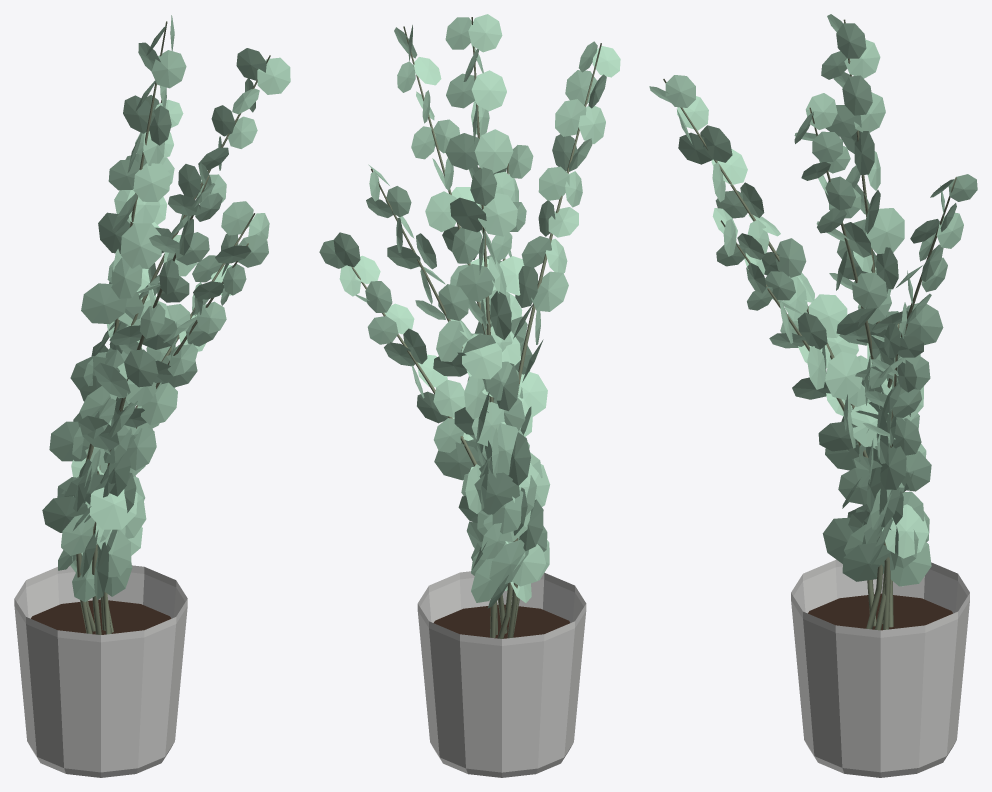
Rendered from eucalyptus.glb.
3 renders of one model, left to right at view 1: azimuth 30°, elevation 25°; view 2: azimuth 150°, elevation 25°; view 3: azimuth 270°, elevation 25°, orthographic. The views are drawn at different scales.
Visible parts, largest first — view 1: EucalyptusLeaf, EucalyptusPlanter, EucalyptusStem, EucalyptusSoil; view 2: EucalyptusLeaf, EucalyptusPlanter, EucalyptusStem, EucalyptusSoil; view 3: EucalyptusLeaf, EucalyptusPlanter, EucalyptusStem, EucalyptusSoil.
Boxes of the visible parts, box(x1,y1,x2,y2) form: EucalyptusLeaf: box(42, 15, 290, 601); EucalyptusPlanter: box(14, 565, 187, 777); EucalyptusStem: box(76, 21, 270, 634); EucalyptusSoil: box(31, 599, 171, 634); EucalyptusLeaf: box(319, 14, 620, 608); EucalyptusPlanter: box(417, 571, 586, 777); EucalyptusStem: box(351, 17, 601, 638); EucalyptusSoil: box(434, 604, 569, 638); EucalyptusLeaf: box(649, 14, 977, 586); EucalyptusPlanter: box(791, 559, 969, 777); EucalyptusStem: box(663, 19, 956, 630); EucalyptusSoil: box(808, 593, 952, 630).
Bounding box in the file's own units: 0.3677 × 1.01 × 0.3998.
